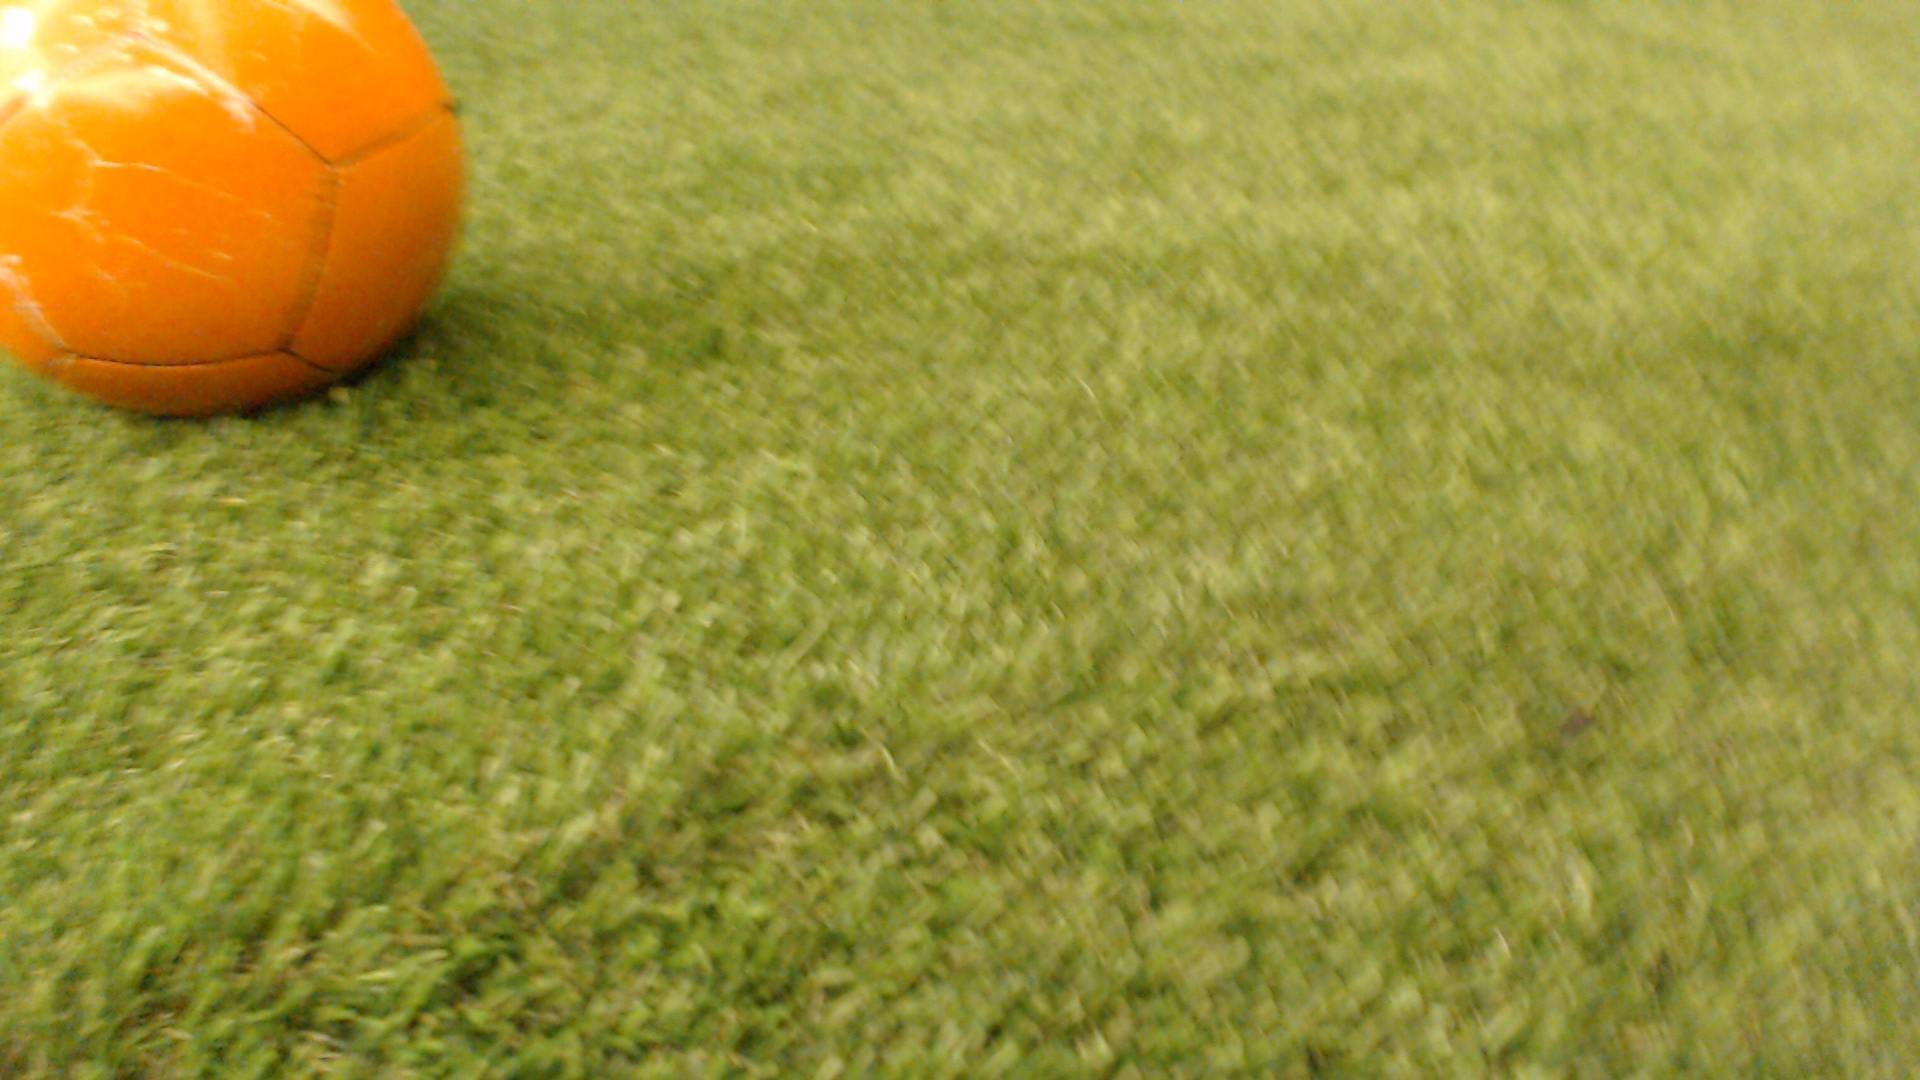bola: (1, 0, 495, 448)
